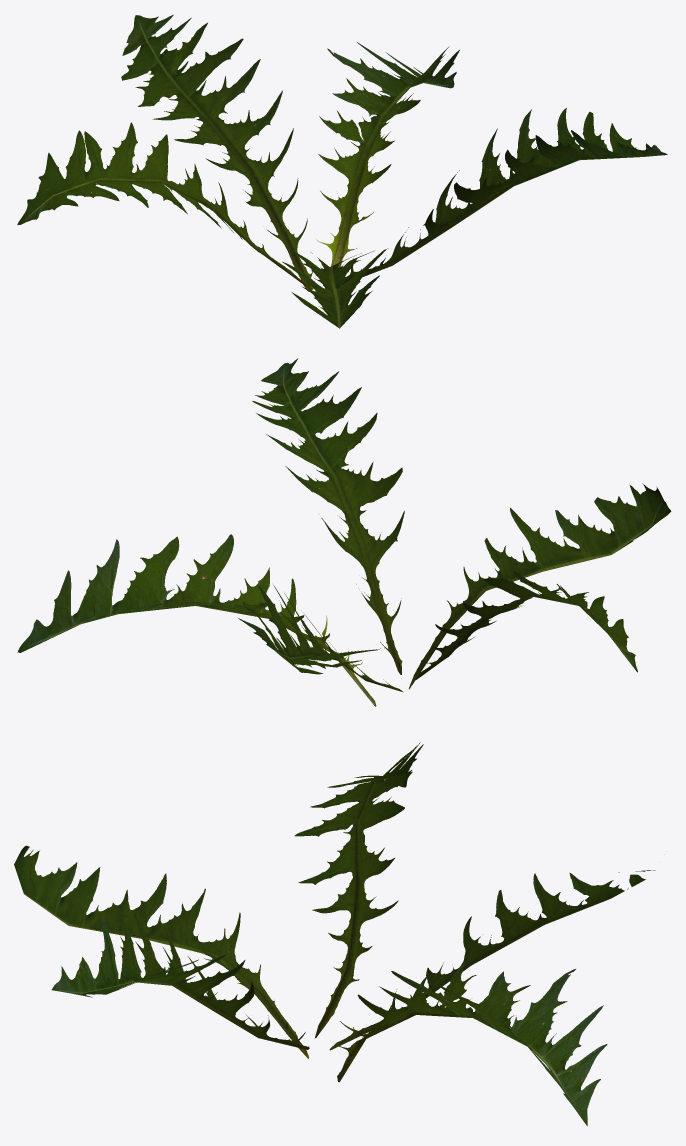
The model's file is Weed 02 Variant 1.fbx.
3 views of the same model, one above another, from view 1: azimuth 30°, elevation 25°; view 2: azimuth 150°, elevation 25°; view 3: azimuth 270°, elevation 25° (orthographic). The views are drawn at different scales.
Parts seen in each view (by area): view 1: Plant_02_LOD0; view 2: Plant_02_LOD0; view 3: Plant_02_LOD0.
Part boxes in pixels (x1=…): Plant_02_LOD0: x1=17, y1=14, x2=667, y2=328; Plant_02_LOD0: x1=17, y1=358, x2=671, y2=706; Plant_02_LOD0: x1=14, y1=742, x2=655, y2=1126.
Size of what is drawn, in the model's own units: 75.89 by 30.27 by 72.86.
1 material, 1 textured.
